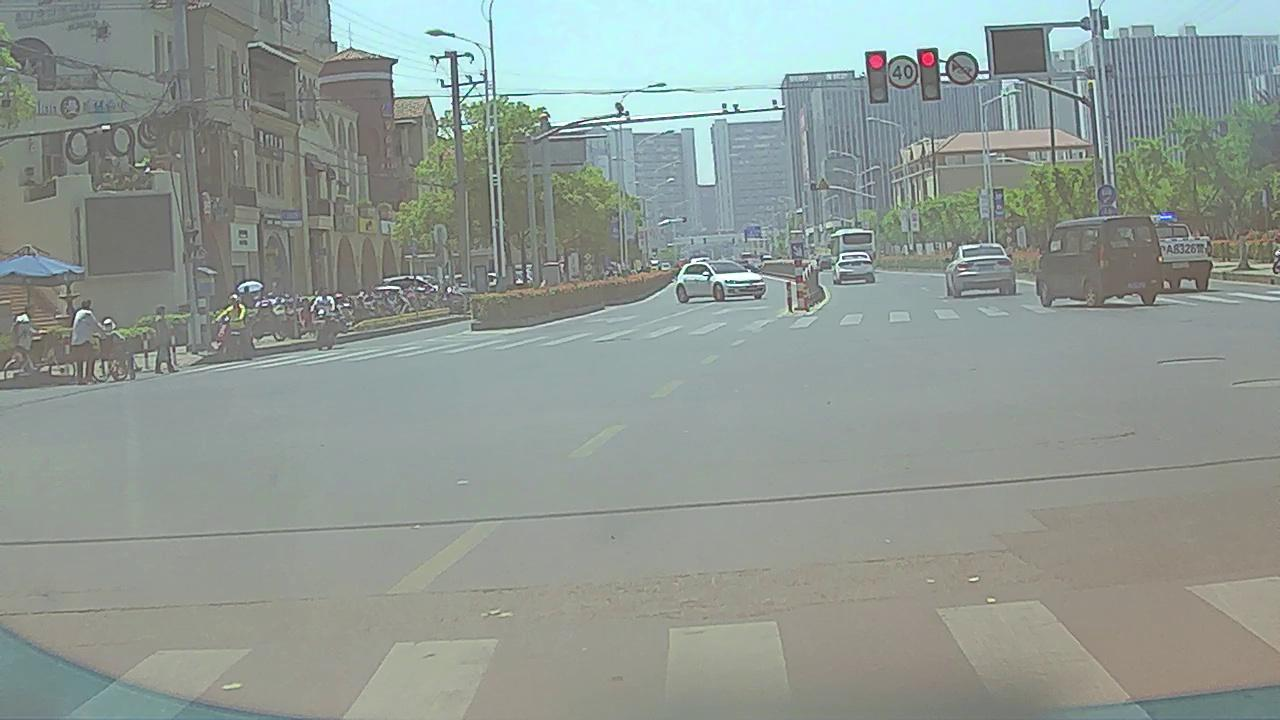traffic_light: (918, 48, 940, 100), (867, 50, 888, 101)
